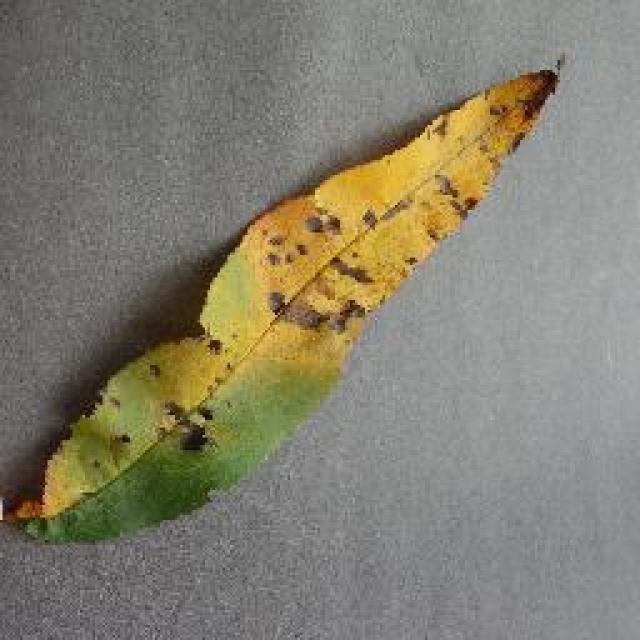Peach_Bacterial_Spot: (208, 137, 442, 405)
